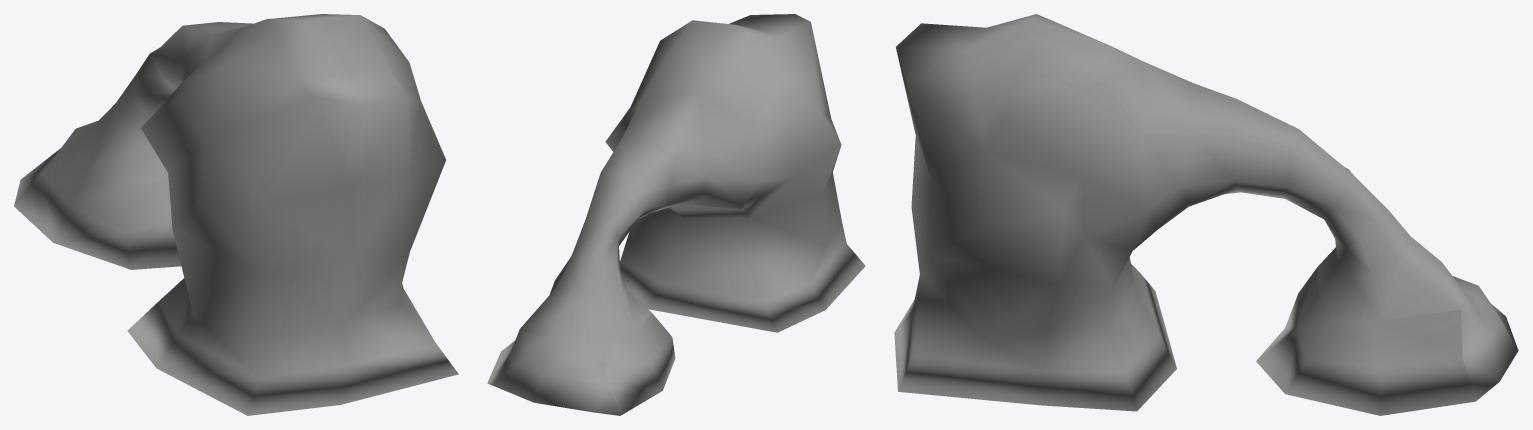
File: rock4.fbx
3 views of the same model, side by side, from view 1: azimuth 30°, elevation 25°; view 2: azimuth 150°, elevation 25°; view 3: azimuth 270°, elevation 25° (orthographic). The views are drawn at different scales.
Visible parts, largest first — view 1: rock7:pCube1; view 2: rock7:pCube1; view 3: rock7:pCube1.
Part boxes in pixels (x1,y1,x2,y2): rock7:pCube1: (14, 14, 458, 415); rock7:pCube1: (487, 14, 865, 415); rock7:pCube1: (894, 14, 1518, 415).
Bounding box in the file's own units: 6.78 × 8.09 × 13.75.
